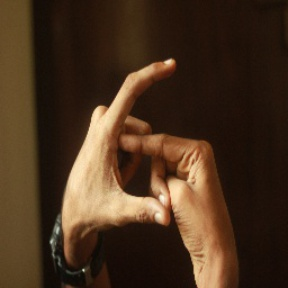E: (95, 52, 194, 228)
